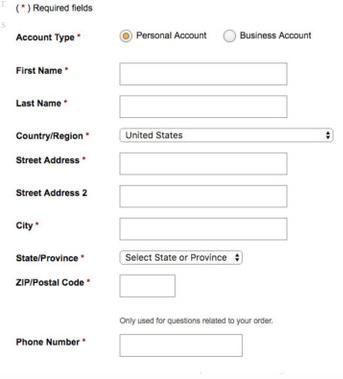field: (117, 60, 290, 86), (118, 151, 289, 177), (118, 215, 288, 241), (116, 94, 288, 119), (117, 184, 289, 209), (119, 127, 335, 144), (117, 332, 244, 358), (119, 249, 244, 266), (118, 274, 177, 299)
field_with_label: (13, 58, 292, 87), (15, 150, 291, 179), (15, 214, 291, 242), (16, 183, 290, 210), (16, 93, 289, 120), (16, 125, 336, 146), (16, 331, 246, 359), (15, 272, 179, 299), (16, 248, 246, 267)
radio: (117, 27, 134, 43), (222, 27, 237, 43)
radio_with_label: (114, 25, 208, 45), (219, 25, 312, 45)
